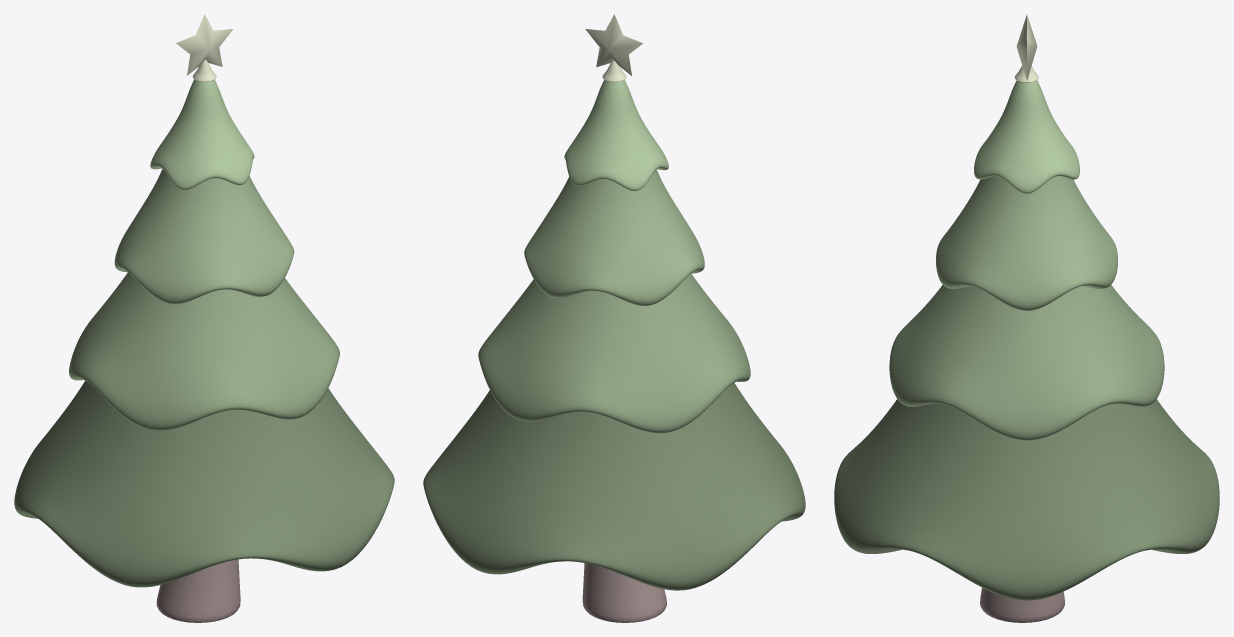
File: tree_simple.gltf
The picture shows the model from 3 angles, left to right: view 1: azimuth 30°, elevation 25°; view 2: azimuth 150°, elevation 25°; view 3: azimuth 270°, elevation 25°; orthographic projection.
Visible parts, largest first — view 1: Null.1, Cylinder.1, Extrude; view 2: Null.1, Cylinder.1, Extrude; view 3: Null.1, Cylinder.1, Extrude.
Part boxes in pixels (x1,y1,x2,y2): Null.1: [14, 79, 394, 587]; Cylinder.1: [156, 559, 240, 622]; Extrude: [176, 14, 232, 75]; Null.1: [423, 80, 805, 590]; Cylinder.1: [582, 563, 666, 622]; Extrude: [585, 14, 642, 75]; Null.1: [834, 80, 1219, 600]; Cylinder.1: [980, 587, 1064, 622]; Extrude: [1016, 15, 1037, 80].
Bounding box in the file's own units: 5.4 × 9.24 × 5.41.
